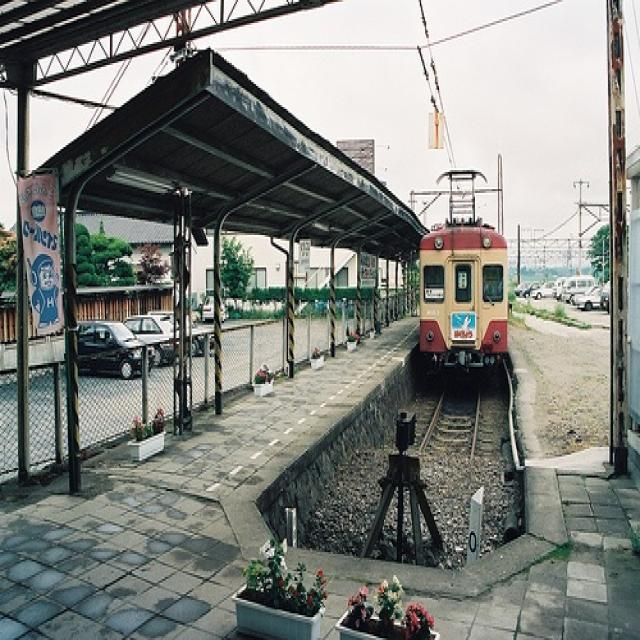car: (77, 319, 159, 384), (120, 313, 178, 369)
pottedplant: (230, 531, 333, 638), (330, 569, 447, 638)
train: (412, 164, 518, 407)
